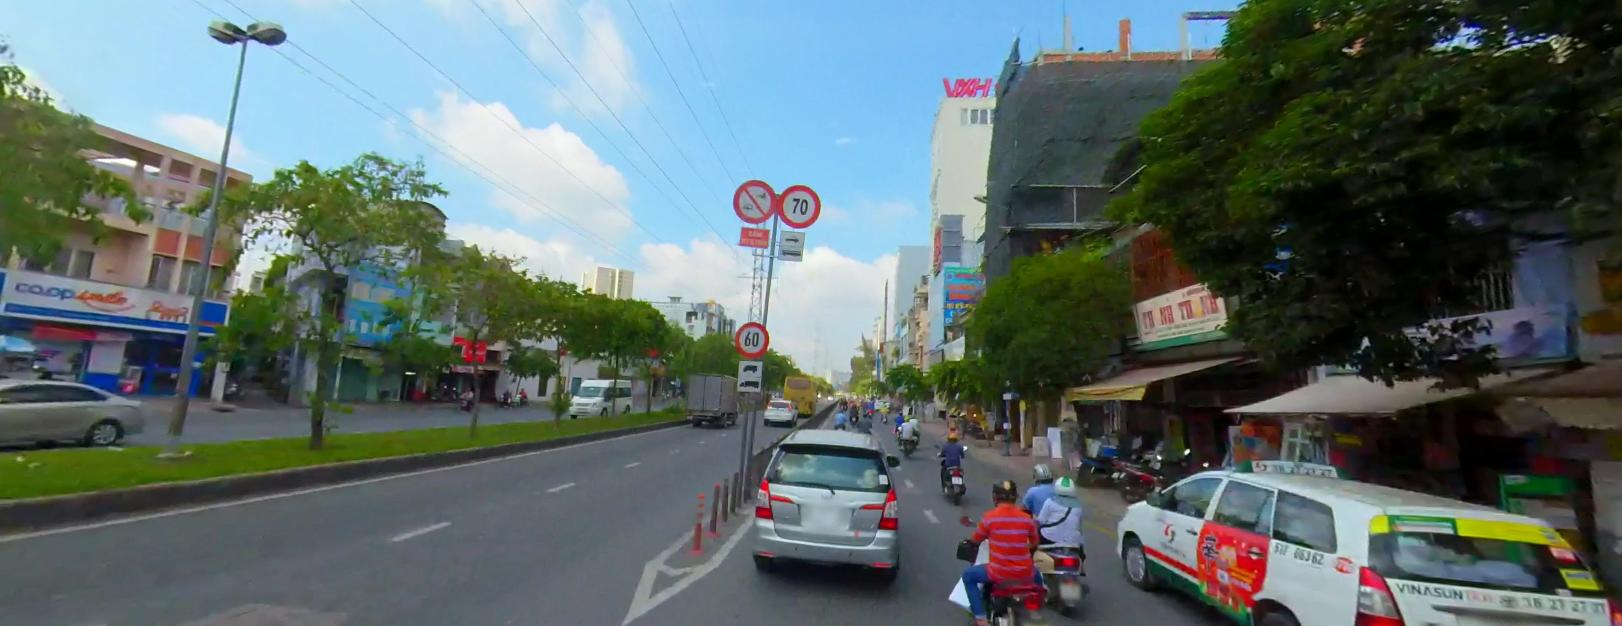Cam con lai: (731, 177, 776, 222)
Gioi han toc do: (777, 182, 821, 227), (734, 319, 768, 355)
